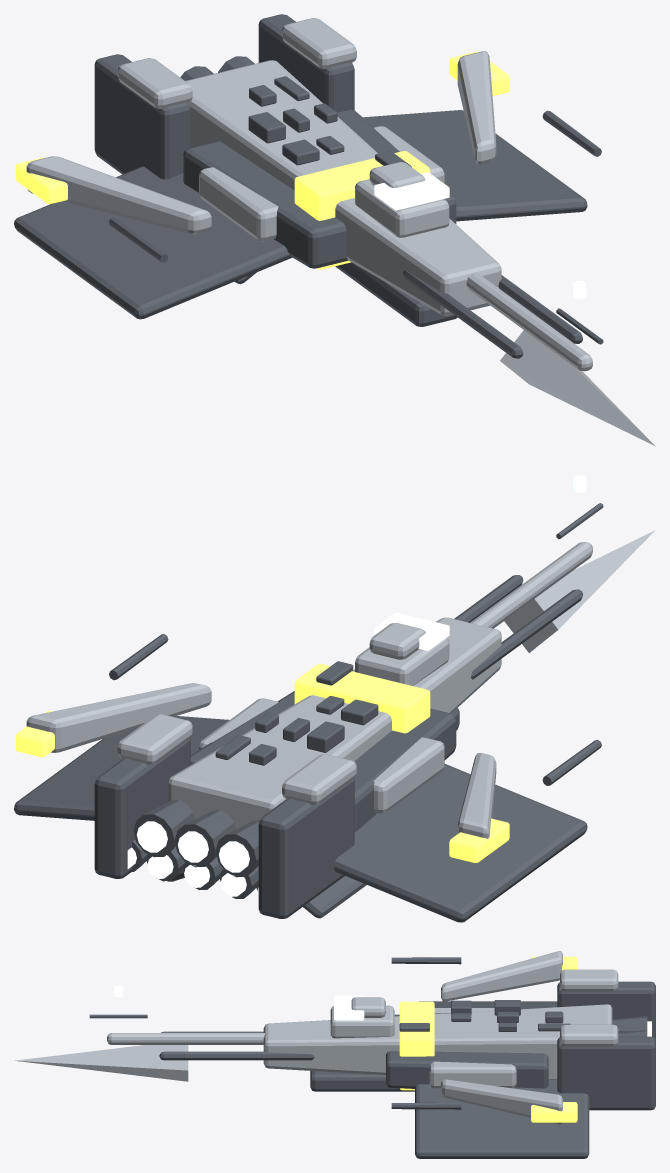
The model's file is se_battleship.glb.
The picture shows the model from 3 angles, top to bottom: view 1: azimuth 30°, elevation 25°; view 2: azimuth 150°, elevation 25°; view 3: azimuth 270°, elevation 25°; orthographic projection. The views are drawn at different scales.
Parts seen in each view (by area): view 1: hull_main, wing_1, wing_-1, brace_1, cargo, pod_1, ram, cargo_wide, brace_-1, stripe, pod_-1, prong_c (+14 smaller); view 2: wing_1, hull_main, brace_1, brace_-1, pod_-1, wing_-1, cargo, stripe, cargo_wide, ram, prong_c, brace_top_-1 (+20 smaller); view 3: hull_main, wing_-1, brace_-1, cargo, ram, pod_1, pod_-1, brace_1, cargo_wide, prong_c, stripe, keel (+12 smaller).
Part boxes in pixels (bbox=[...]): hull_main: bbox=[185, 60, 501, 315]; wing_1: bbox=[14, 166, 292, 319]; wing_-1: bbox=[363, 110, 587, 221]; brace_1: bbox=[94, 54, 190, 179]; cargo: bbox=[183, 109, 456, 268]; pod_1: bbox=[26, 156, 211, 234]; ram: bbox=[500, 330, 655, 446]; cargo_wide: bbox=[199, 126, 444, 241]; brace_-1: bbox=[258, 14, 354, 111]; stripe: bbox=[294, 151, 430, 269]; pod_-1: bbox=[457, 51, 496, 164]; prong_c: bbox=[466, 273, 592, 371]; wing_1: bbox=[334, 764, 587, 922]; hull_main: bbox=[168, 617, 501, 829]; brace_1: bbox=[258, 778, 354, 918]; brace_-1: bbox=[94, 738, 190, 878]; pod_-1: bbox=[26, 683, 211, 752]; wing_-1: bbox=[14, 716, 229, 820]; cargo: bbox=[190, 691, 456, 831]; stripe: bbox=[294, 663, 430, 733]; cargo_wide: bbox=[199, 698, 444, 813]; ram: bbox=[504, 530, 655, 652]; prong_c: bbox=[470, 542, 592, 628]; brace_top_-1: bbox=[117, 714, 192, 764]; hull_main: bbox=[263, 1004, 612, 1078]; wing_-1: bbox=[415, 1079, 589, 1158]; brace_-1: bbox=[557, 1036, 655, 1110]; cargo: bbox=[386, 1013, 548, 1088]; ram: bbox=[15, 1045, 188, 1081]; pod_1: bbox=[441, 951, 562, 1001]; pod_-1: bbox=[441, 1079, 562, 1124]; brace_1: bbox=[557, 981, 655, 1040]; cargo_wide: bbox=[429, 1008, 516, 1088]; prong_c: bbox=[107, 1033, 264, 1044]; stripe: bbox=[399, 1001, 434, 1090]; keel: bbox=[310, 1071, 414, 1091].
Size of the model in its own units: 0.5056 by 0.1839 by 0.884.
